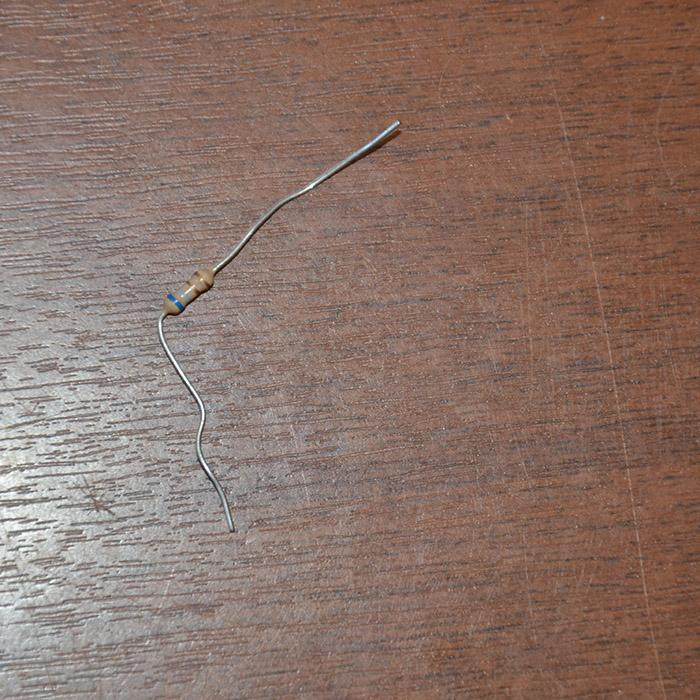resistor: (162, 267, 217, 317)
